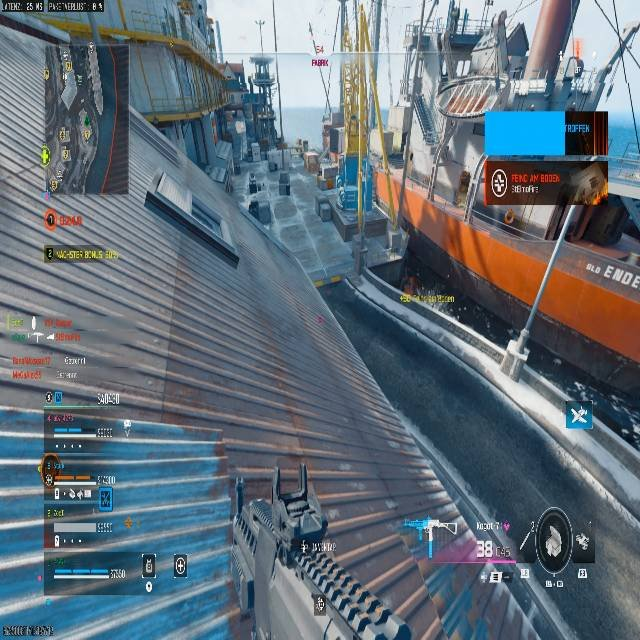player: (247, 200, 260, 218)
